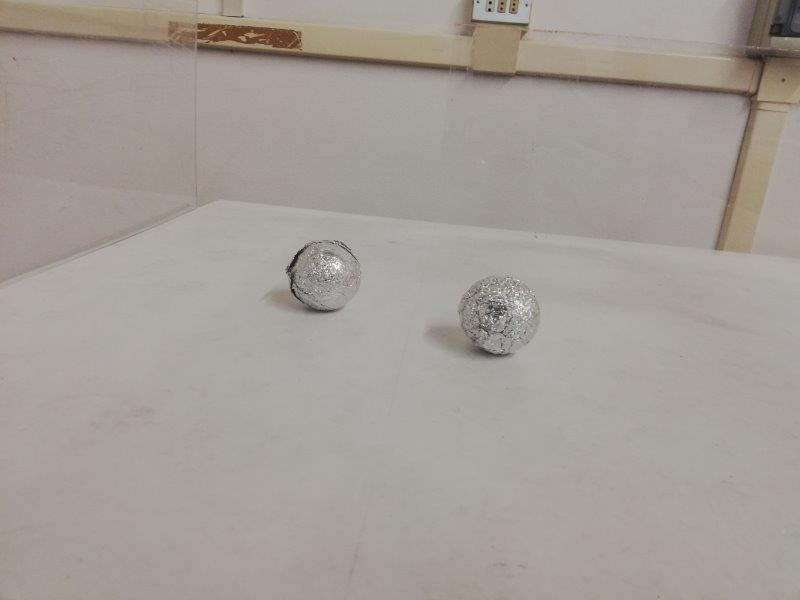bianca: (458, 276, 541, 356), (285, 238, 360, 314)
